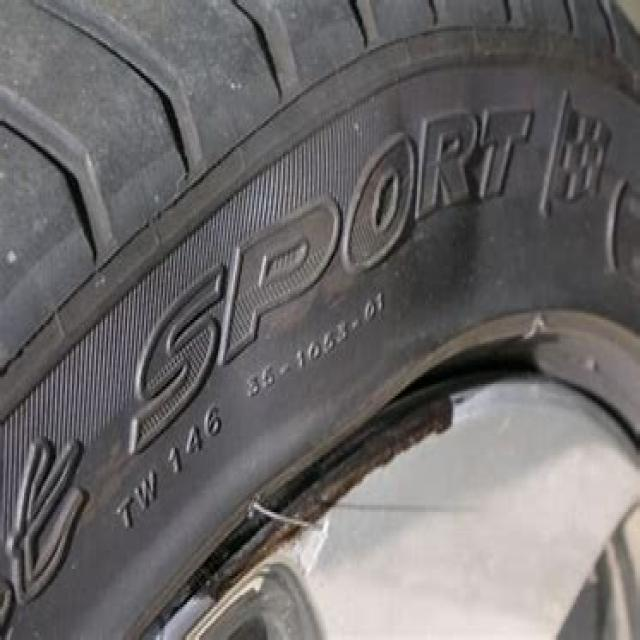Bulge: (233, 68, 414, 426)
